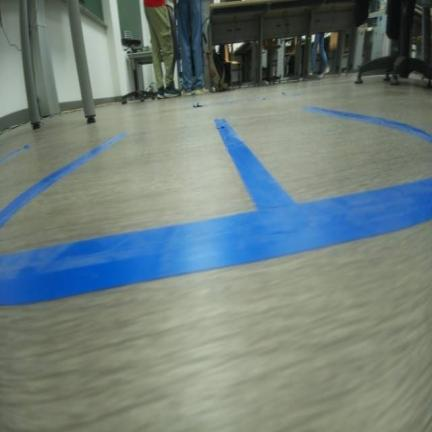place: (2, 119, 331, 290), (211, 104, 431, 248), (0, 131, 128, 227)
